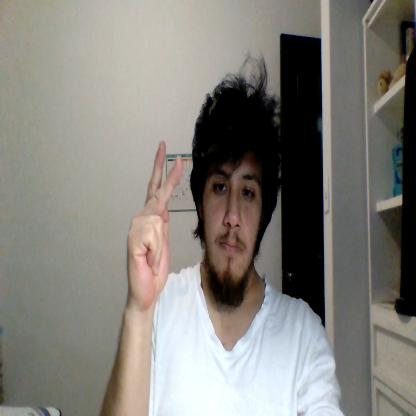P: (127, 139, 183, 309)
